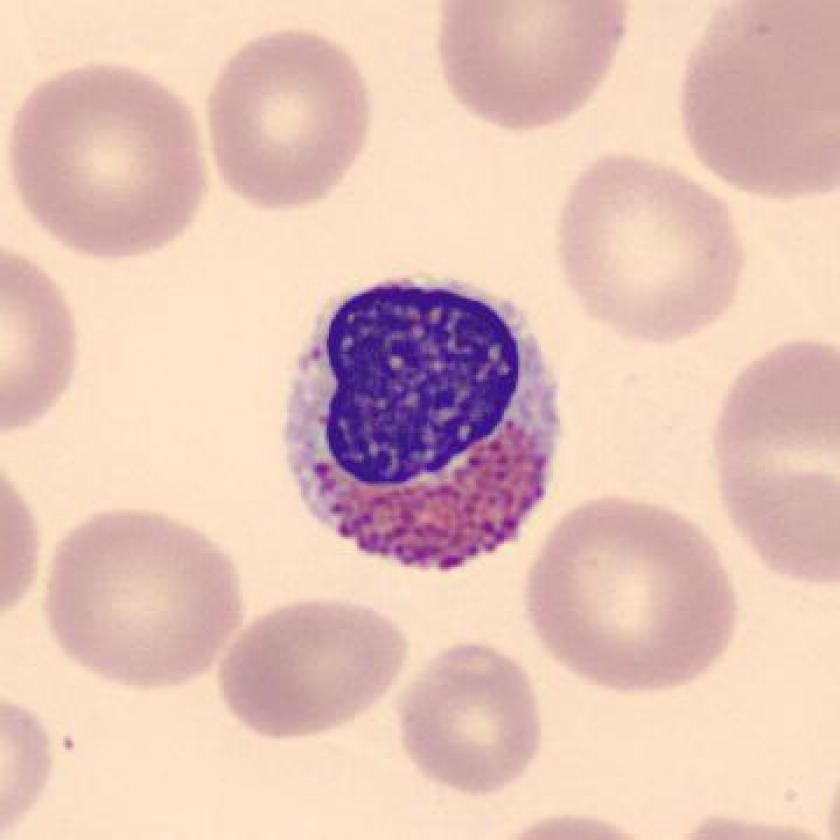eosinophil: (269, 265, 573, 582)
